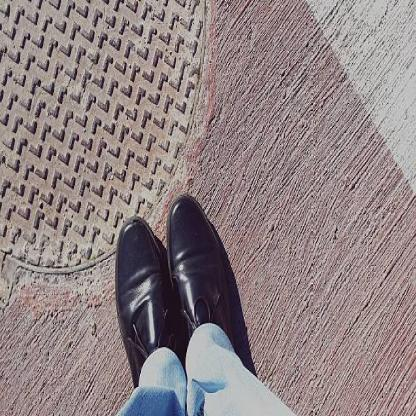manholes: (1, 1, 228, 284)
